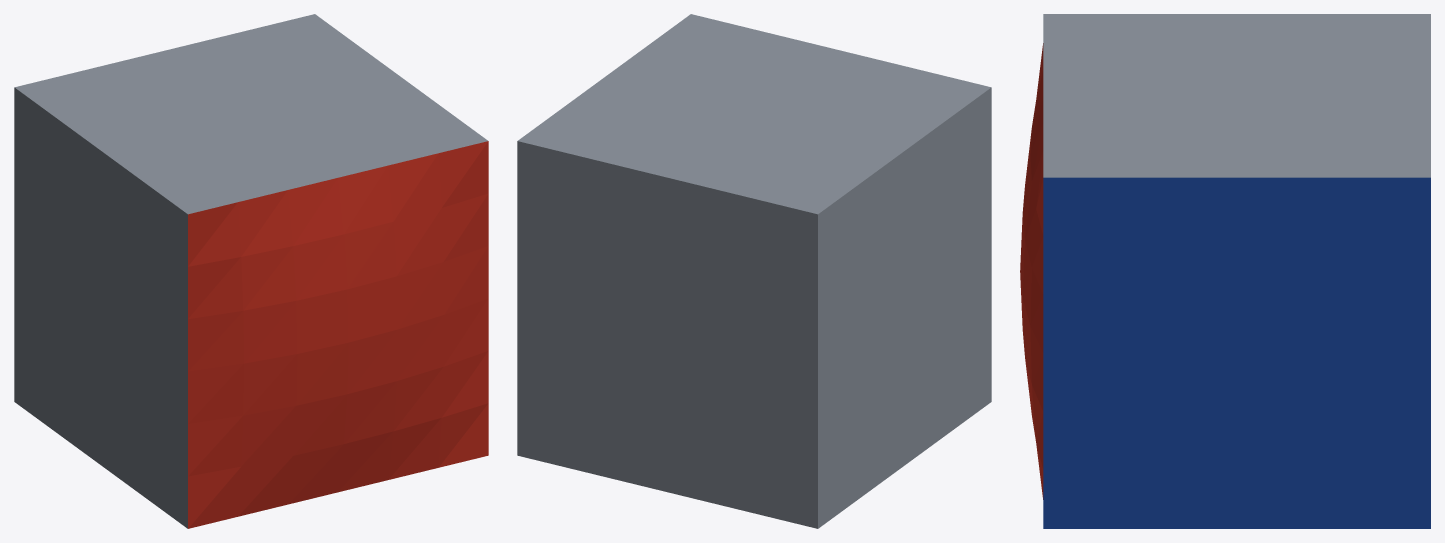
The model's file is feature_box.obj.
The picture shows the model from 3 angles, left to right: view 1: azimuth 30°, elevation 25°; view 2: azimuth 150°, elevation 25°; view 3: azimuth 270°, elevation 25°; orthographic projection. The views are drawn at different scales.
Parts seen in each view (by area): view 1: FeatureBox; view 2: FeatureBox; view 3: FeatureBox.
Boxes of the visible parts, left/top/right/bottom form: FeatureBox: left=14, top=14, right=488, bottom=528; FeatureBox: left=517, top=14, right=991, bottom=528; FeatureBox: left=1020, top=14, right=1430, bottom=528.
Size of the model in its own units: 2 by 2 by 2.12.
